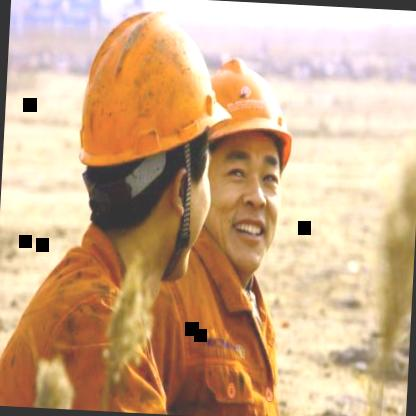helmet: (51, 0, 224, 287), (180, 44, 307, 283)
